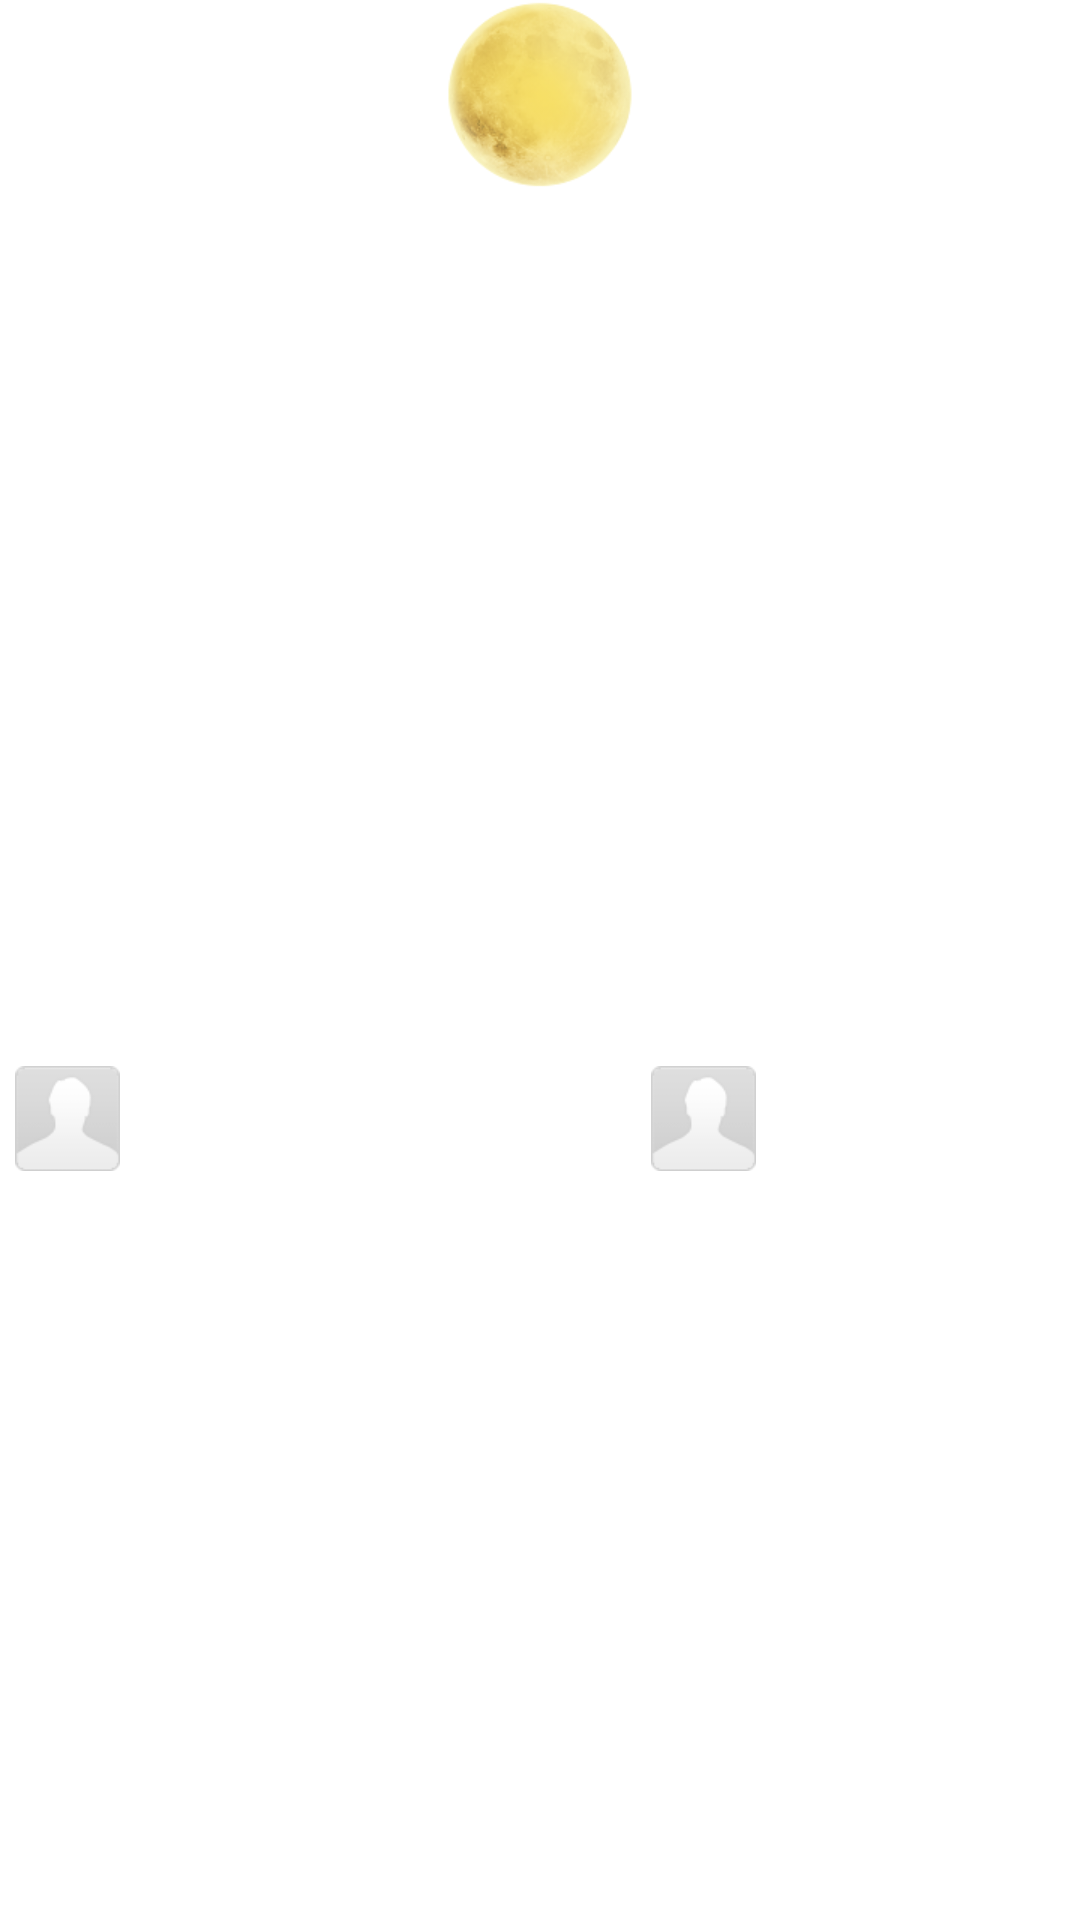

Locate icon controls on the screen. Image size 1080 x 1920, boxes as box(x1, y1, x2, y2).
moon: box(448, 3, 632, 186)
photo: box(15, 1066, 120, 1171), box(651, 1066, 756, 1171)
